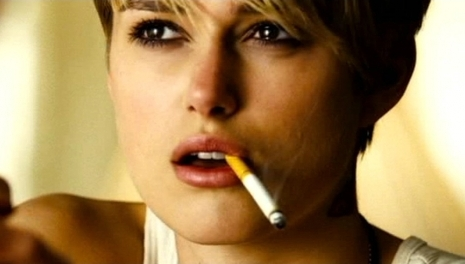cigarette: (219, 150, 298, 236)
